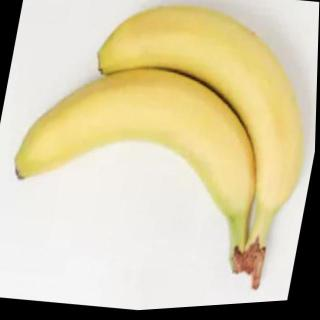banana: (69, 0, 320, 228), (7, 43, 279, 231)
